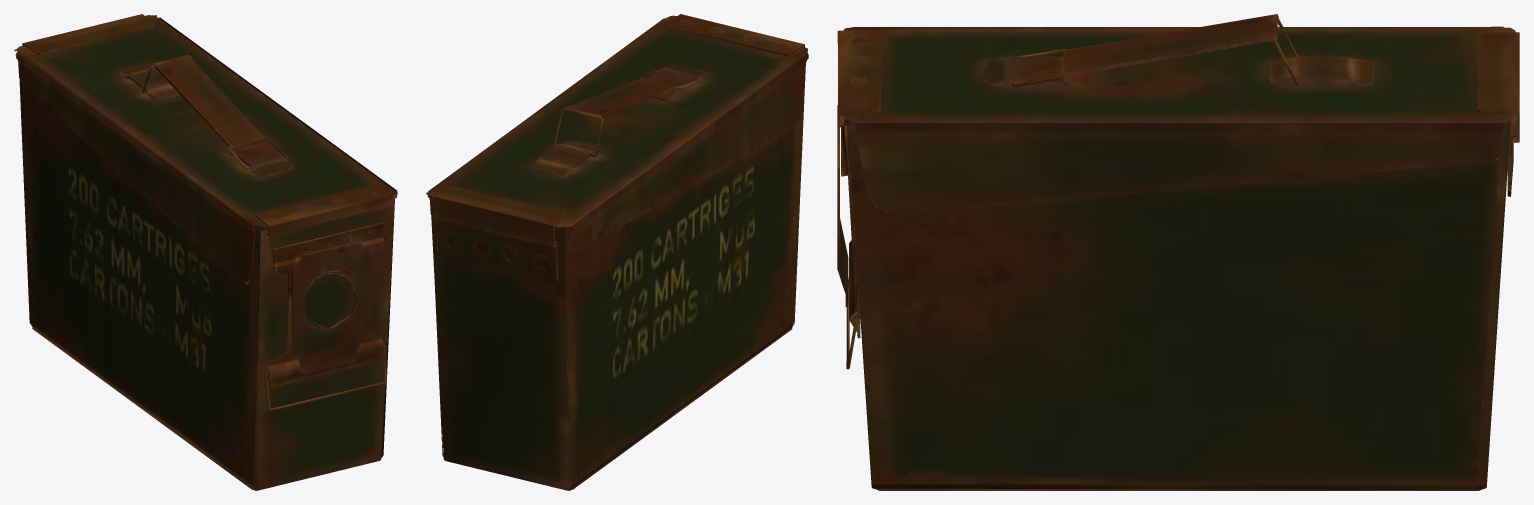
The model's file is ammo_box.glb.
3 renders of one model, left to right at view 1: azimuth 30°, elevation 25°; view 2: azimuth 150°, elevation 25°; view 3: azimuth 270°, elevation 25°, orthographic. The views are drawn at different scales.
Parts seen in each view (by area): view 1: ammo_box, ammo_box_handle, ammo_box_latch; view 2: ammo_box, ammo_box_handle; view 3: ammo_box, ammo_box_handle.
Part boxes in pixels (left/top/right/bottom): ammo_box: left=14, top=14, right=397, bottom=490; ammo_box_handle: left=153, top=55, right=266, bottom=149; ammo_box_latch: left=264, top=344, right=386, bottom=410; ammo_box: left=426, top=14, right=808, bottom=490; ammo_box_handle: left=565, top=77, right=676, bottom=119; ammo_box: left=837, top=26, right=1519, bottom=490; ammo_box_handle: left=1063, top=14, right=1278, bottom=75.
Bounding box in the file's own units: 0.0865 × 0.1774 × 0.2577.
Materials: 1 (1 with a texture image).
